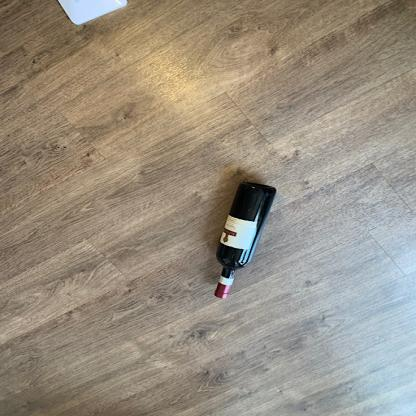trash: (211, 181, 277, 301)
